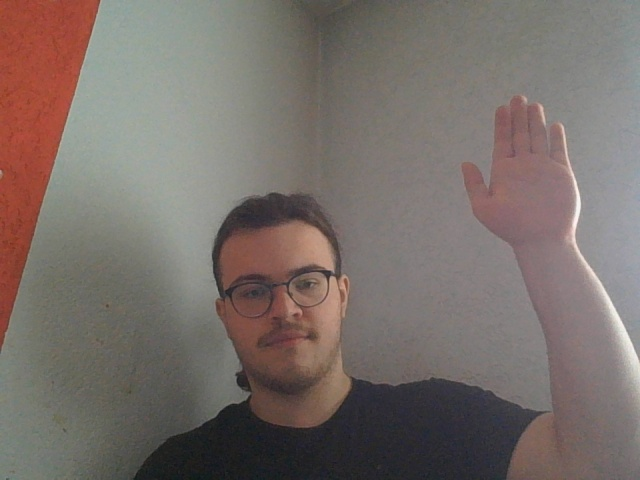Hello: (459, 94, 583, 265)
